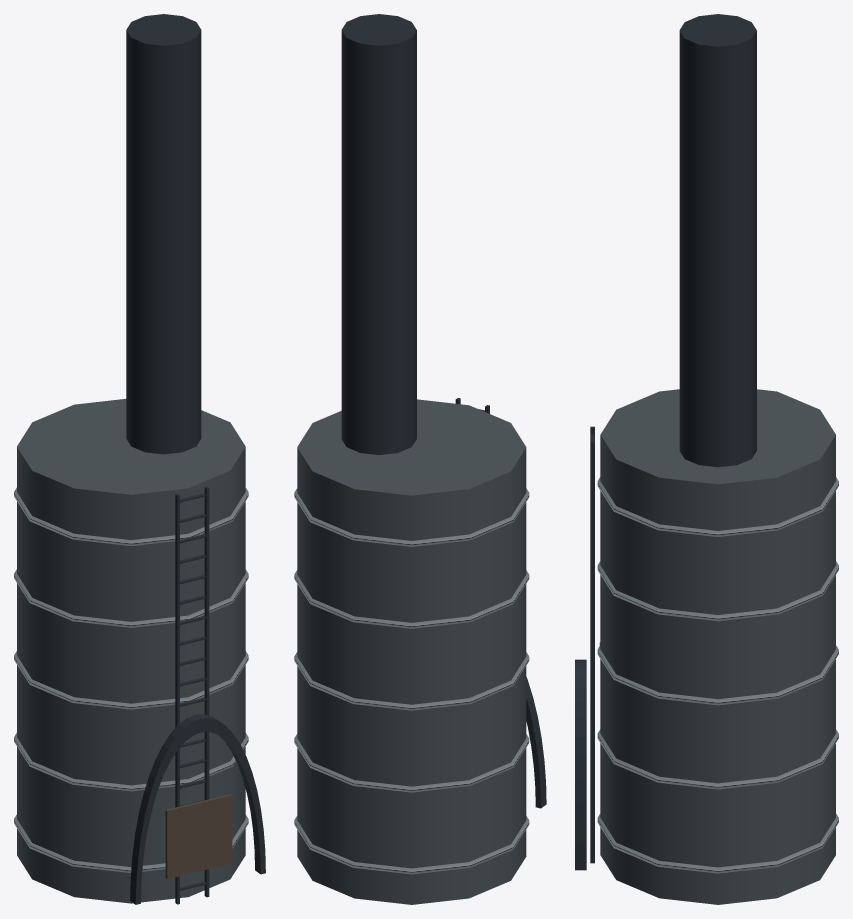
Rendered from furnace-1.glb.
3 views of the same model, side by side, from view 1: azimuth 30°, elevation 25°; view 2: azimuth 150°, elevation 25°; view 3: azimuth 270°, elevation 25° (orthographic). The views are drawn at different scales.
Parts seen in each view (by area): view 1: furnace/0/KR-230-1; view 2: furnace/0/KR-230-1; view 3: furnace/0/KR-230-1.
Boxes of the visible parts, bbox=[...] form: furnace/0/KR-230-1: bbox=[14, 14, 265, 904]; furnace/0/KR-230-1: bbox=[294, 14, 546, 904]; furnace/0/KR-230-1: bbox=[575, 14, 838, 904].
Size of the model in its own units: 6.24 by 24 by 6.82.
